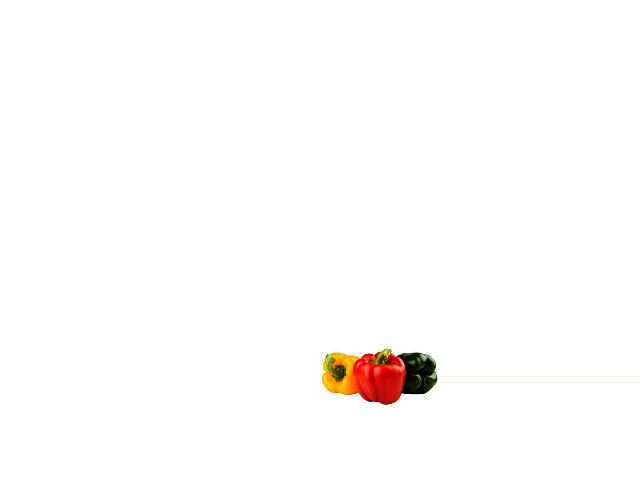bell_pepper: (319, 348, 362, 403)
